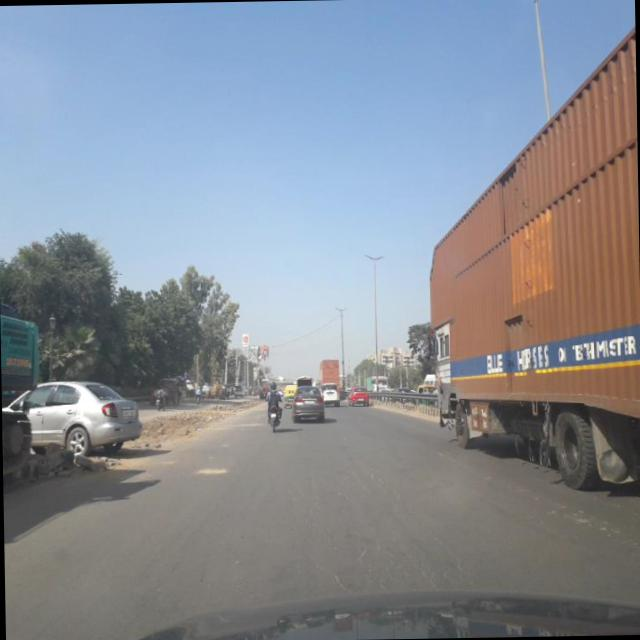crack: (267, 445, 482, 587)
